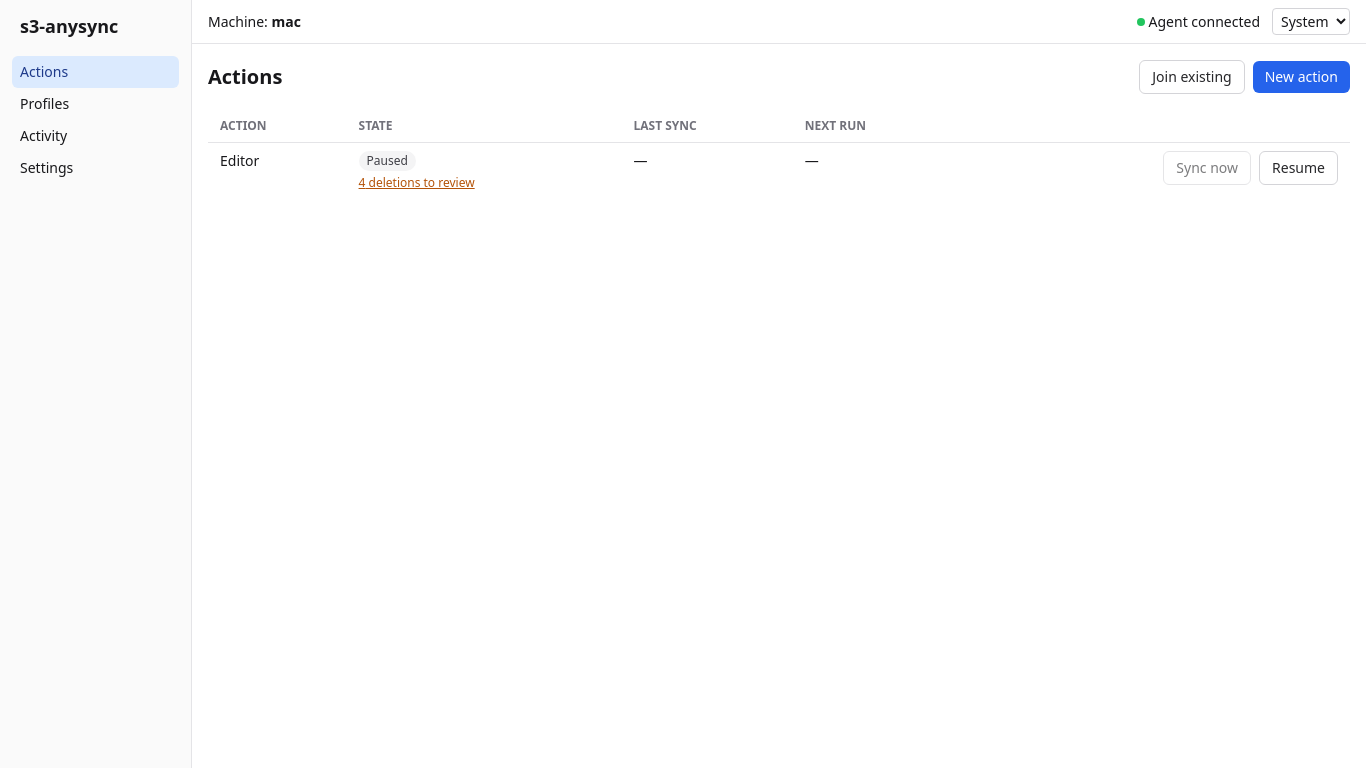
Scenario: the deletes banner shows with state paused and leads to the deletions
Click the button "Editor" at (240, 161), box x1=220 y1=151 x2=259 y2=171
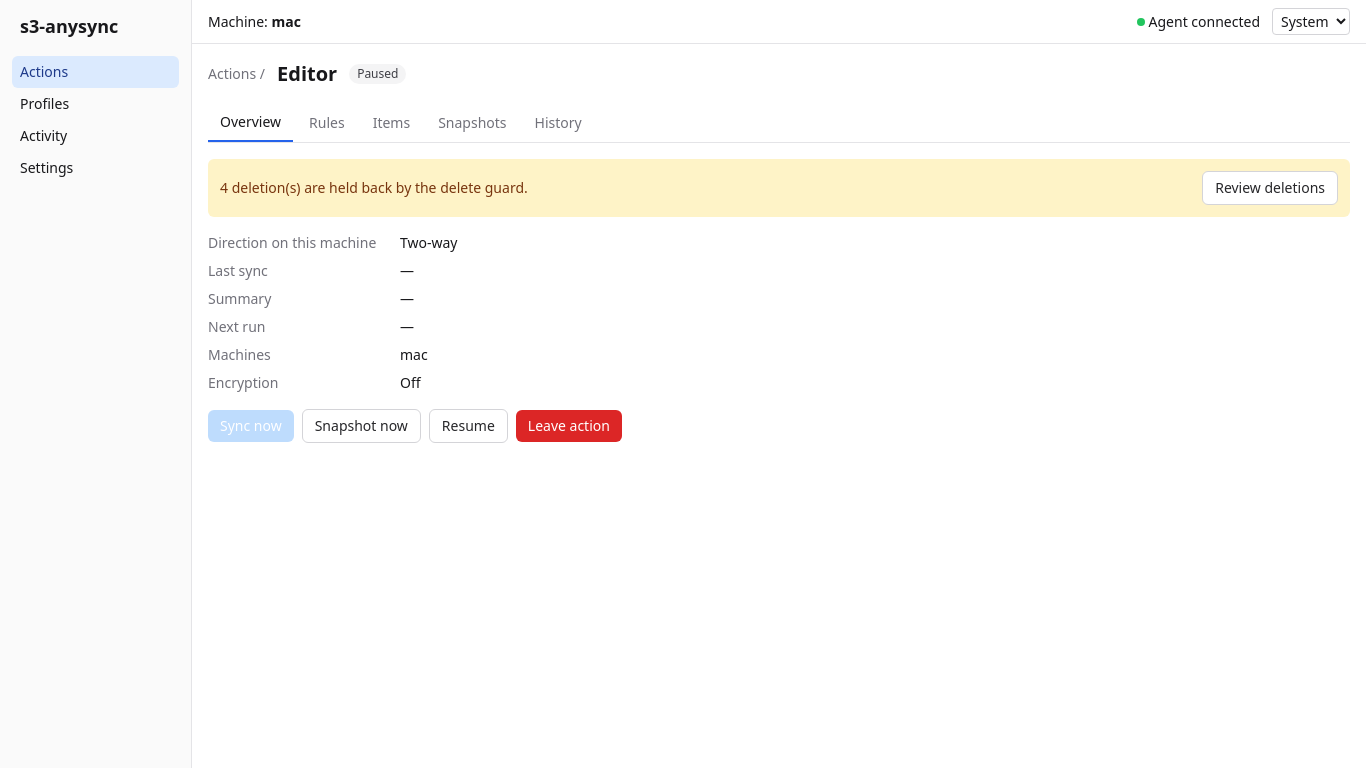
Result: the button "Leave action" is shown at x1=516 y1=410 x2=622 y2=442
Result: the text "4 deletion(s) are held back by the delete guard." is shown at x1=220 y1=178 x2=528 y2=198
Click the button "Review deletions" at (1270, 188), box x1=1202 y1=171 x2=1338 y2=205
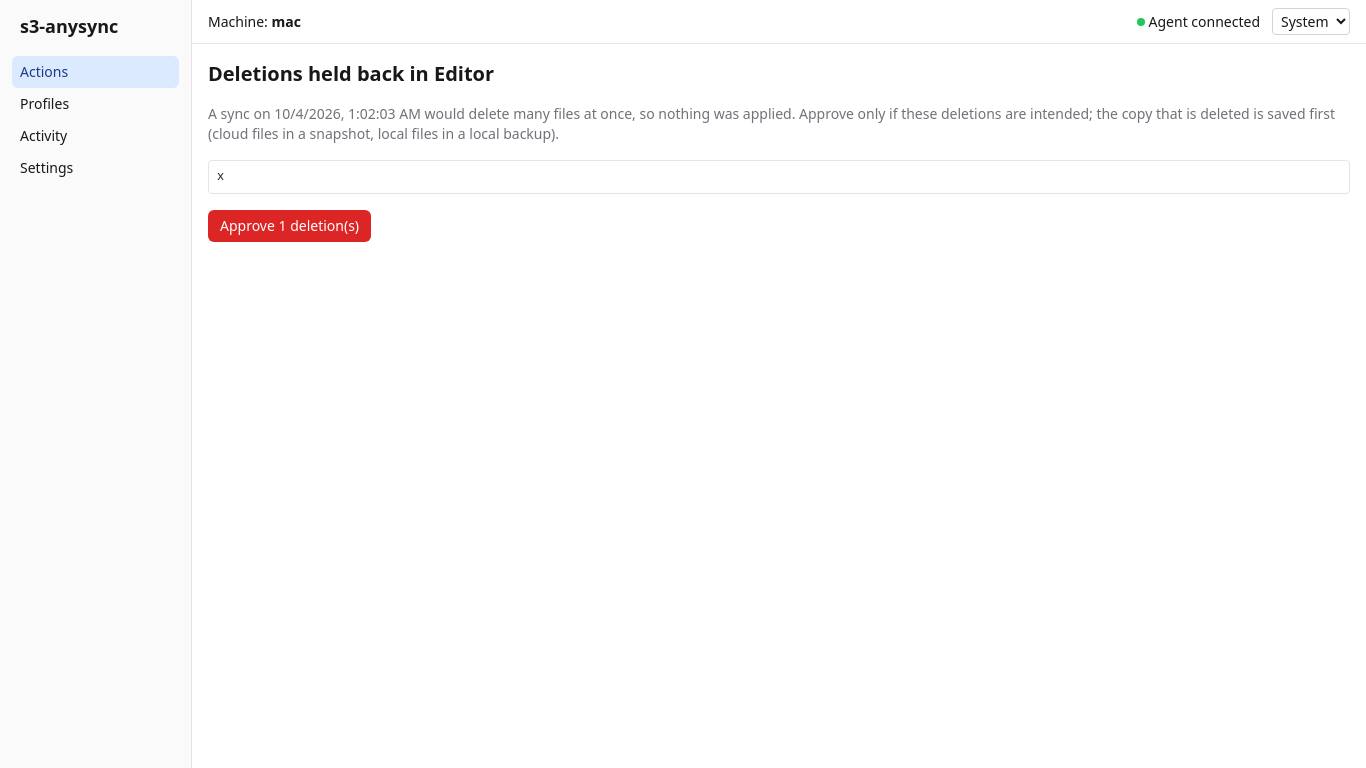
Result: the heading "Deletions held back in Editor" is shown at x1=208 y1=60 x2=494 y2=87
